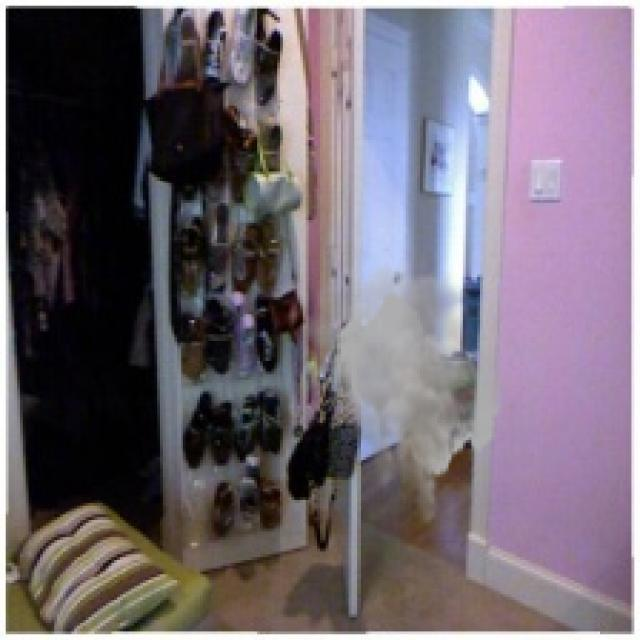Smoke: (300, 257, 506, 529)
